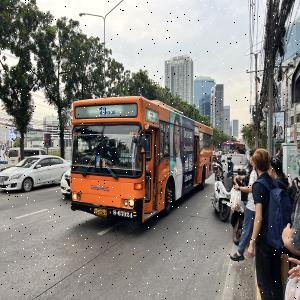BMTA-bus: (66, 96, 214, 227)
Bus Line Number: (92, 104, 123, 117)
Bus Side Number: (110, 208, 136, 220)
Destination Sign: (120, 149, 136, 165)
